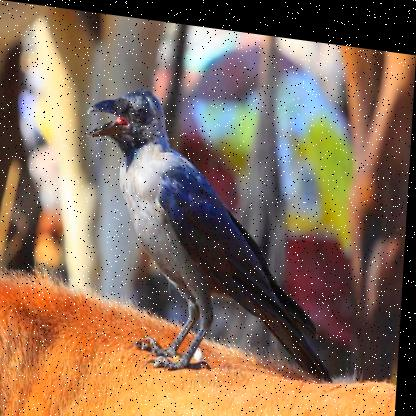Burung: (77, 80, 348, 383)
